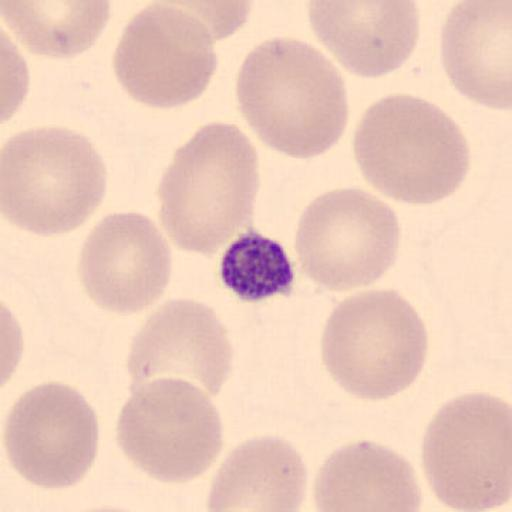Platelet: (217, 228, 298, 304)
RBC: (155, 120, 262, 257), (235, 35, 350, 160), (351, 91, 472, 207), (318, 286, 430, 402), (292, 184, 402, 293), (115, 376, 226, 484), (2, 125, 108, 237), (112, 3, 220, 111), (124, 296, 234, 402), (419, 389, 512, 511), (1, 379, 101, 491), (77, 210, 173, 316), (305, 0, 422, 80), (311, 437, 424, 512), (204, 431, 308, 512), (439, 0, 512, 110), (2, 0, 113, 61), (146, 0, 253, 42), (0, 27, 30, 125), (1, 300, 25, 394), (56, 499, 157, 512), (59, 503, 150, 512)
